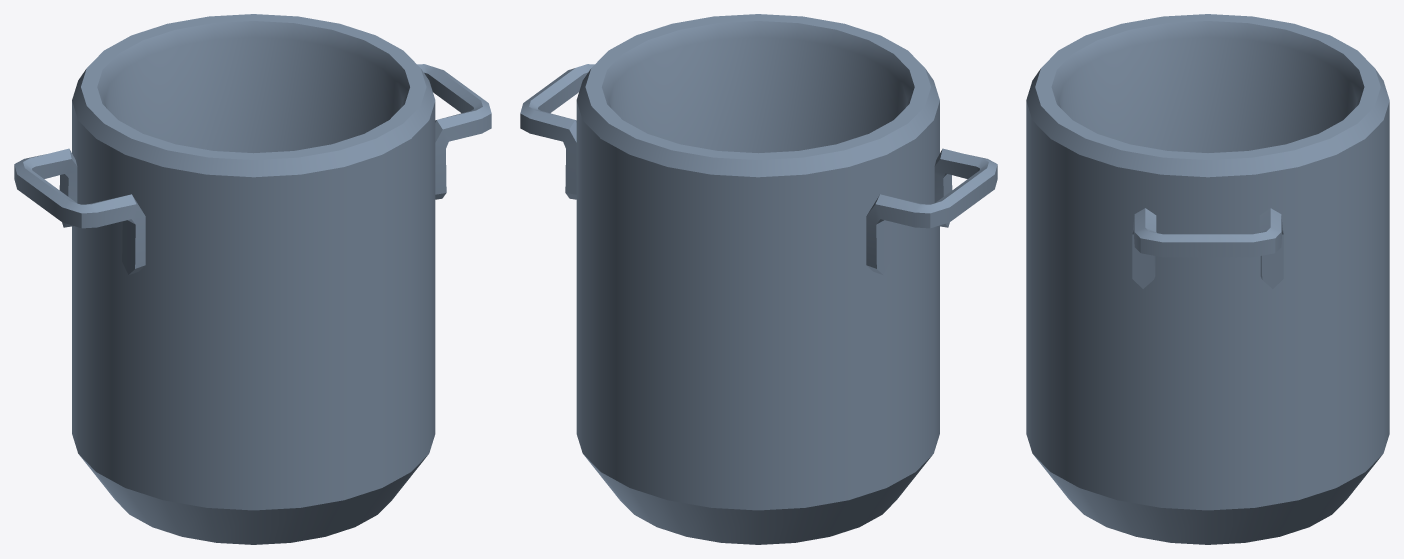
File: Pot 2 Empty.glb
The picture shows the model from 3 angles, left to right: view 1: azimuth 30°, elevation 25°; view 2: azimuth 150°, elevation 25°; view 3: azimuth 270°, elevation 25°; orthographic projection.
Parts seen in each view (by area): view 1: Environment_Pot_2_Empty; view 2: Environment_Pot_2_Empty; view 3: Environment_Pot_2_Empty.
Boxes of the visible parts, x1,y1,x2,y2 form: Environment_Pot_2_Empty: (14,14,491,544); Environment_Pot_2_Empty: (520,14,997,544); Environment_Pot_2_Empty: (1026,14,1389,544).
Bounding box in the file's own units: 1.4 × 1.25 × 1.04.
1 material, 1 textured.
